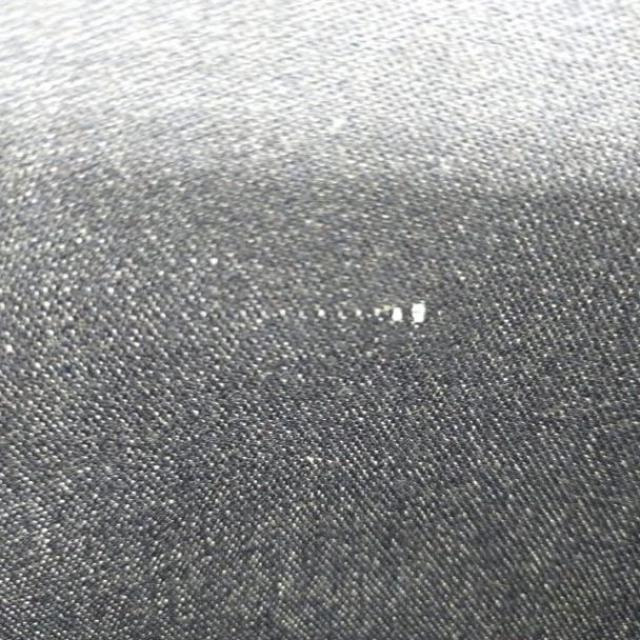Knot: (335, 301, 428, 325)
